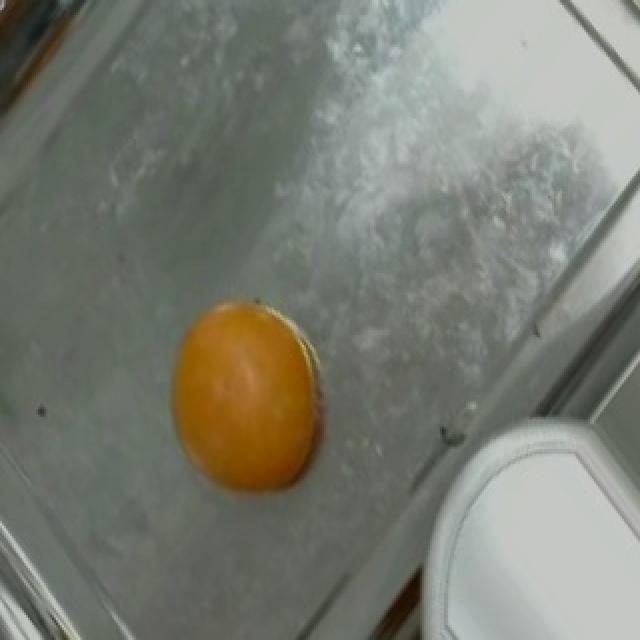Fruit: (422, 429, 640, 640), (156, 278, 340, 518), (574, 312, 640, 536)
